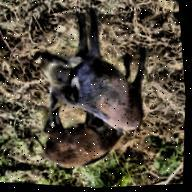boar: (20, 0, 158, 140), (27, 101, 129, 177)
